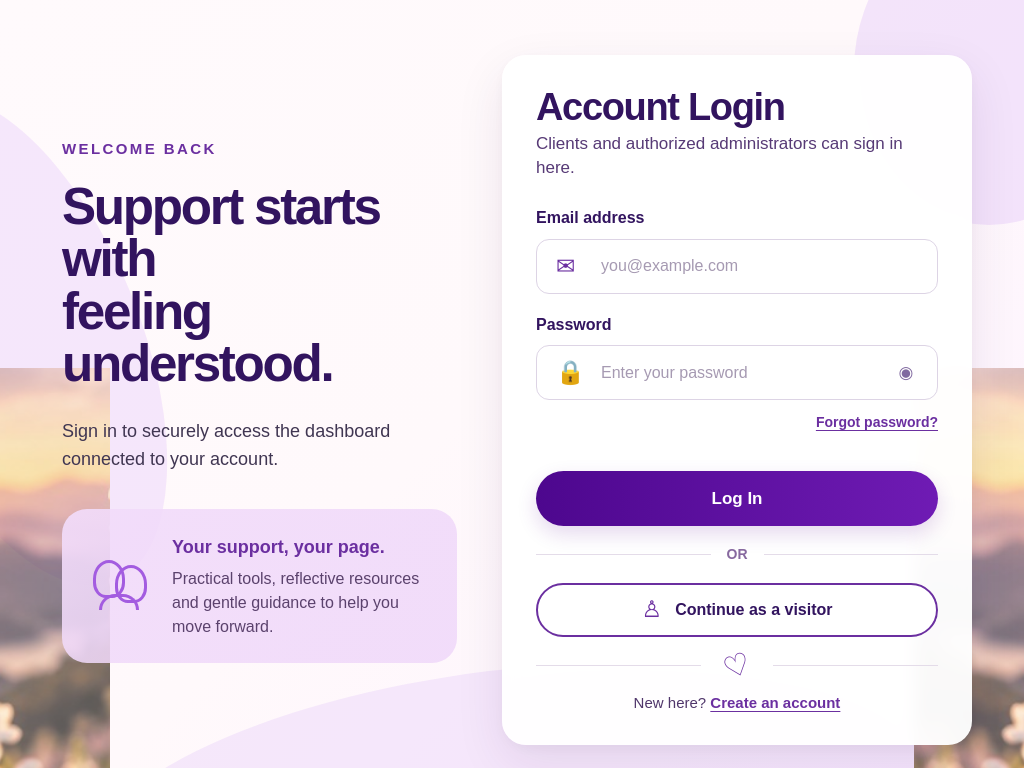
Test: Admin Login page › asks for the email code and saves no token yet
The width and height of the screenshot is (1024, 768).
Type "admin@test.com" into the field labelled "Email address". click: (737, 266)
box: x1=536 y1=239 x2=938 y2=294
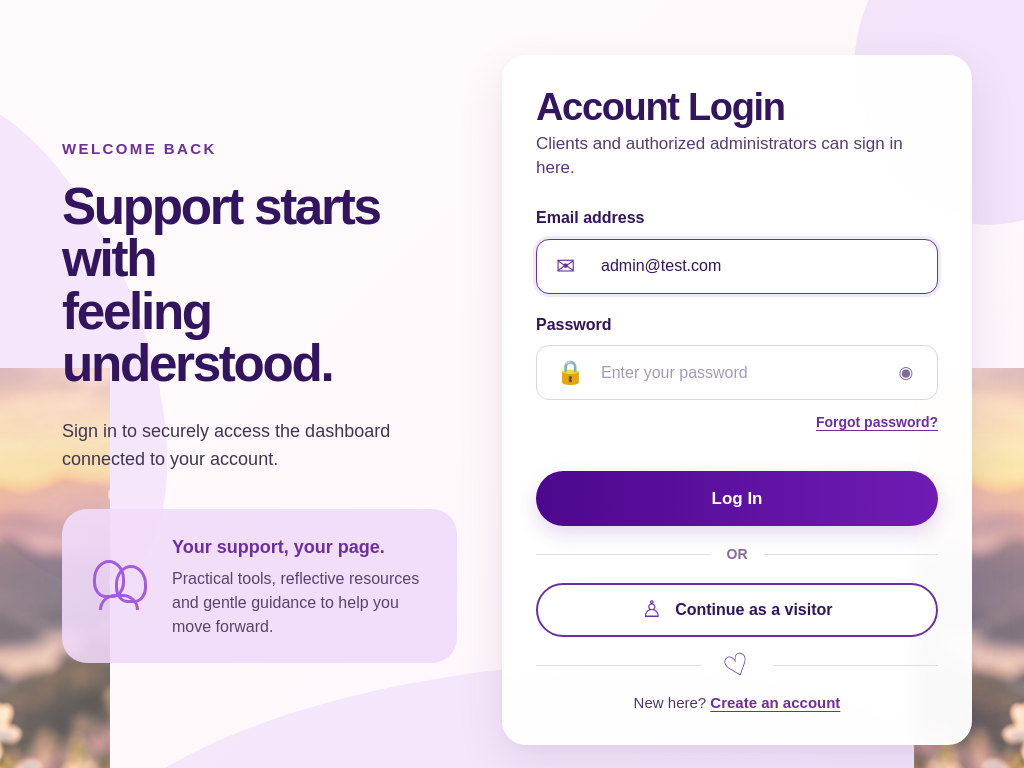
Type "Admin@12345" into the password field labelled "Password". click: (737, 373)
box: x1=536 y1=345 x2=938 y2=400
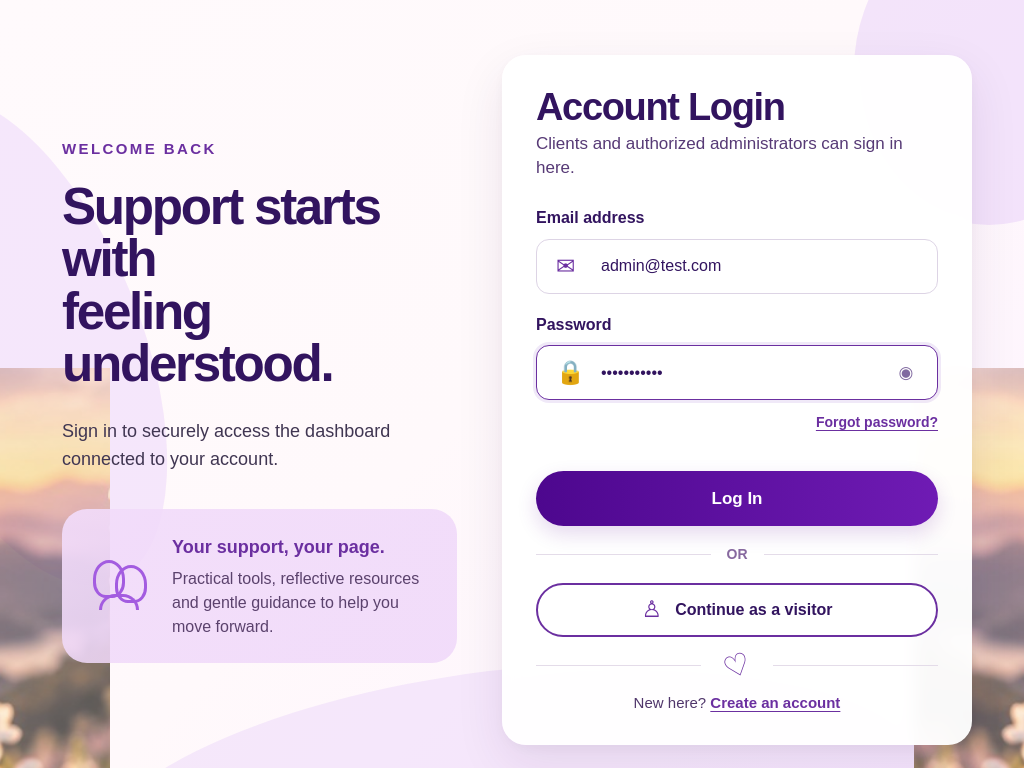
Click the button "Log In". click: (737, 499)
box: x1=536 y1=471 x2=938 y2=526
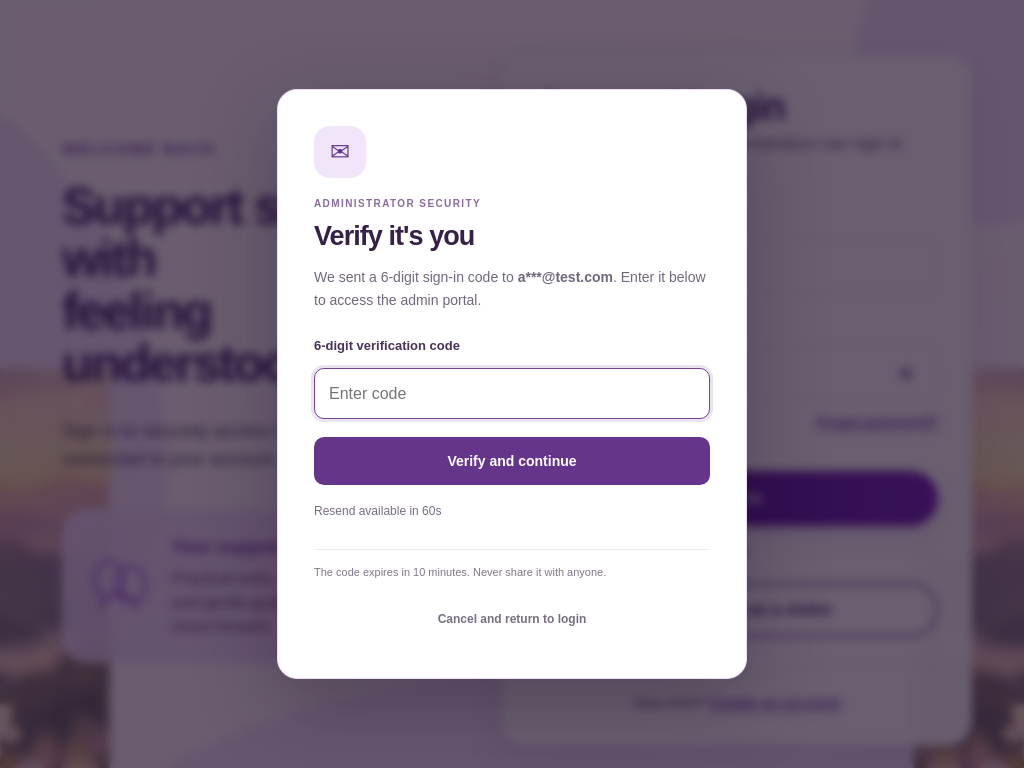
Check: the dialog is shown, box x1=277 y1=90 x2=747 y2=678
Check: the text "a***@test.com" is shown, box x1=518 y1=269 x2=613 y2=285
